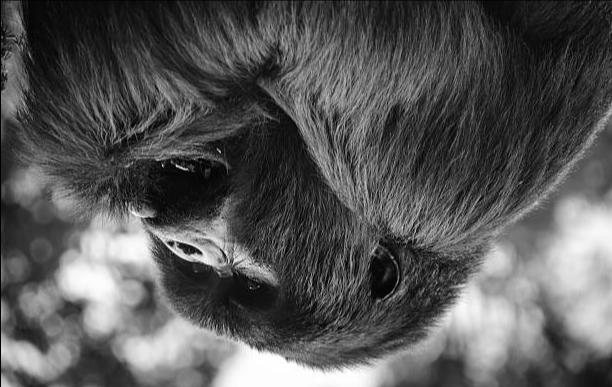goriile_montagne: (47, 2, 529, 373)
